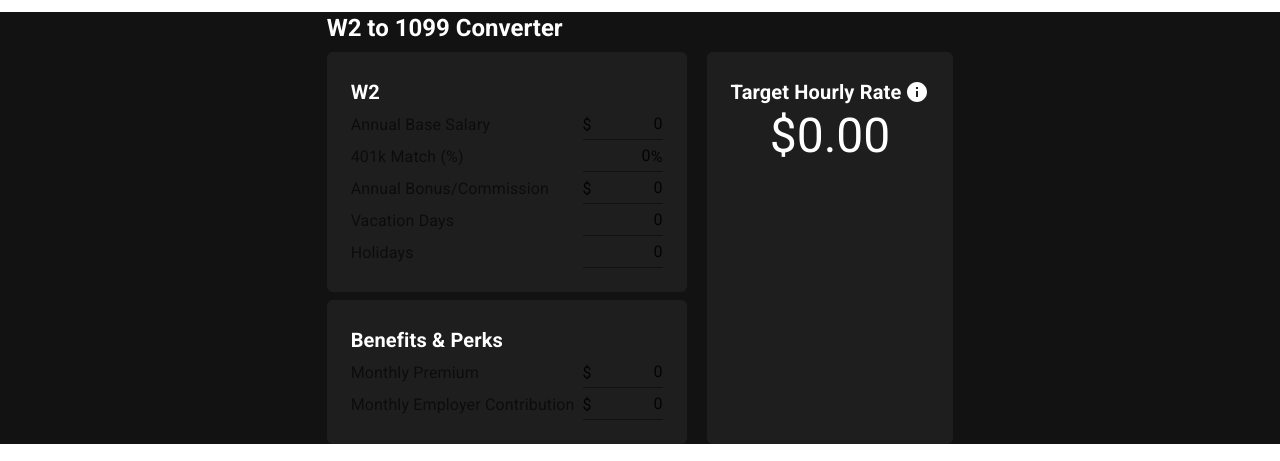
Test: Page › checks calculator output for base salary and holidays
Replace the text in the field labelled "Annual Base Salary" with "100000" at x=627, y=124, box [592, 108, 662, 140]
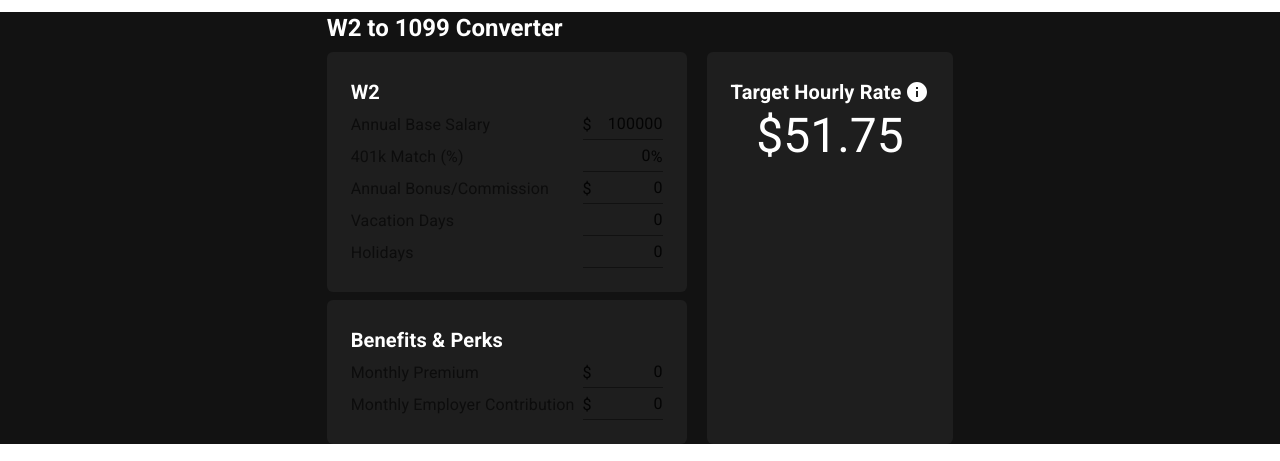
Replace the text in the field labelled "Holidays" with "10" at x=623, y=252, box [583, 236, 663, 268]
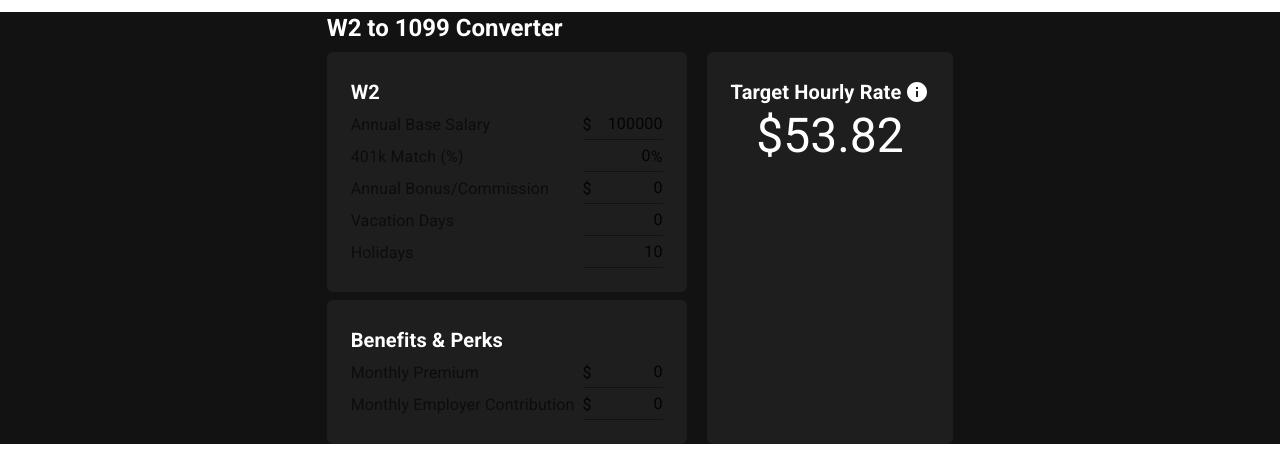
Result: the heading named "Target Hourly Rate" reads "$53.82" at [756, 108, 904, 164]
